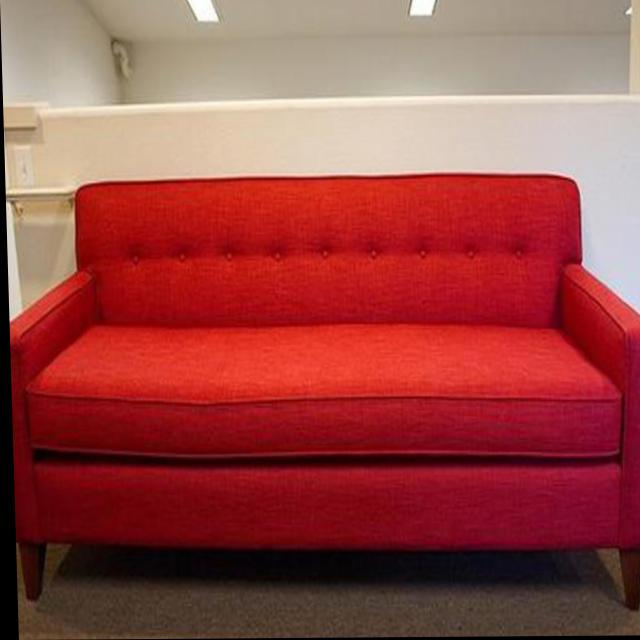Sofa: (4, 175, 640, 614)
